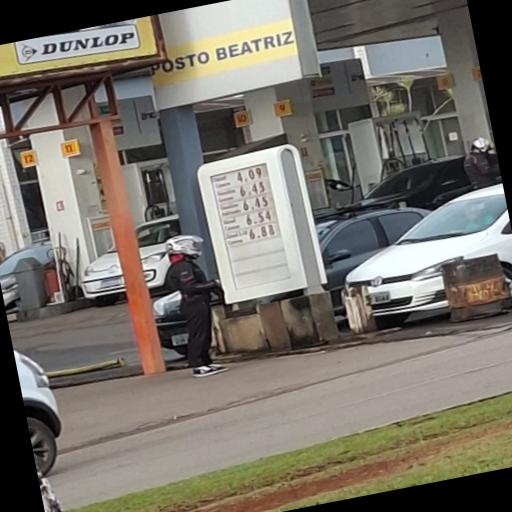ETANOL: (213, 173, 237, 192)
GASOLINA AD: (219, 201, 242, 218)
GASOLINA C: (216, 187, 238, 203)
S10: (225, 230, 249, 247)
S500: (223, 216, 243, 232)
placa: (211, 164, 281, 248)
preco: (235, 166, 265, 184), (239, 179, 267, 197), (242, 194, 269, 212), (245, 209, 272, 227), (248, 224, 276, 241)
